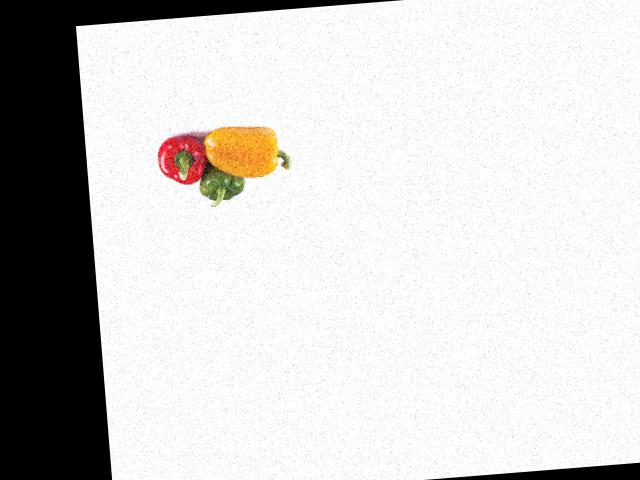bell_pepper: (193, 157, 250, 208)
